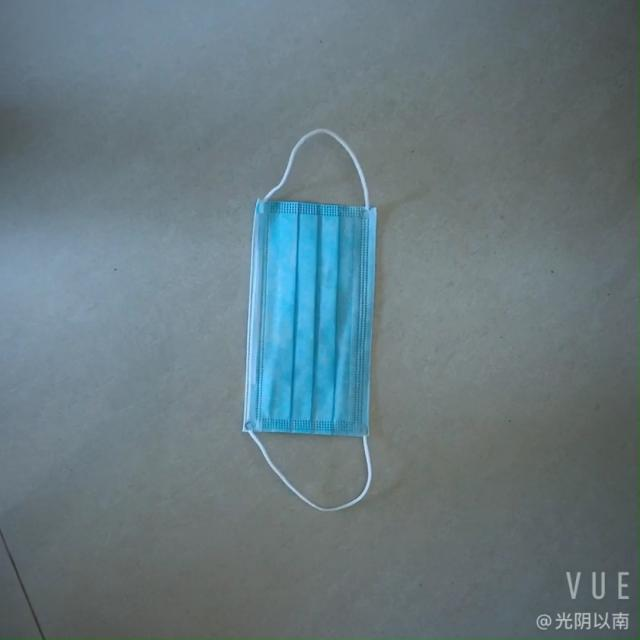non-organic waste: (222, 170, 388, 447)
